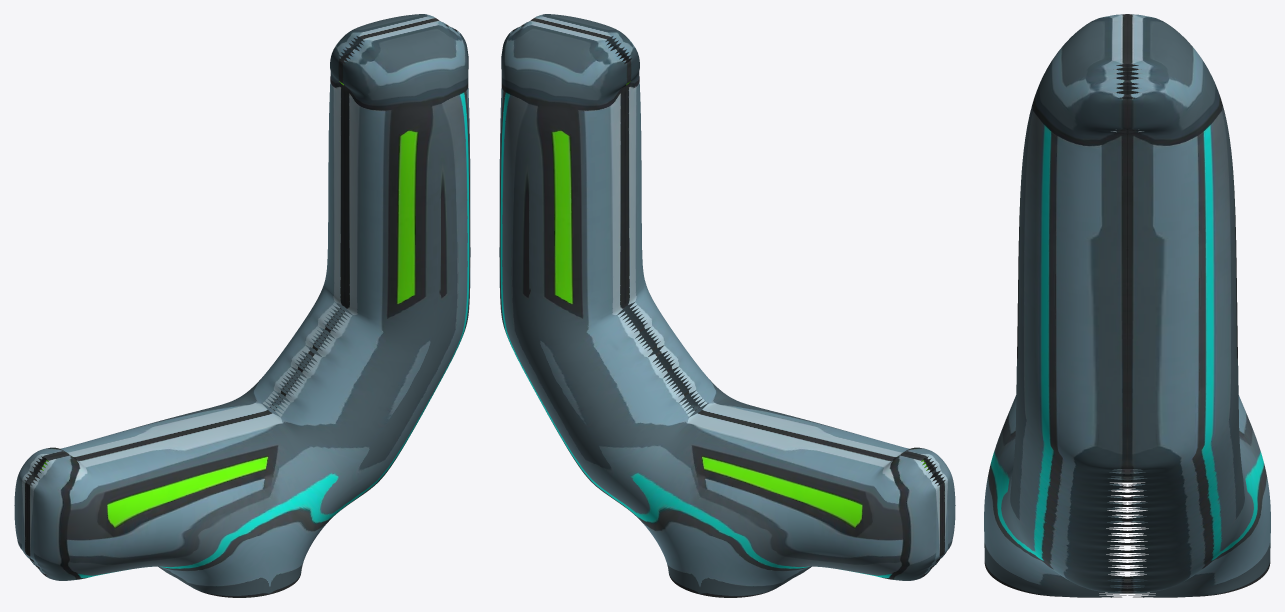
File: cliff_conduit.glb
3 views of the same model, side by side, from view 1: azimuth 30°, elevation 25°; view 2: azimuth 150°, elevation 25°; view 3: azimuth 270°, elevation 25° (orthographic). The views are drawn at different scales.
Parts seen in each view (by area): view 1: cliff_conduit; view 2: cliff_conduit; view 3: cliff_conduit.
Part boxes in pixels (x1,y1,x2,y2): cliff_conduit: (14,14,470,597); cliff_conduit: (499,14,955,597); cliff_conduit: (984,14,1270,597).
Bounding box in the file's own units: 0.9882 × 1.06 × 0.4279.
Materials: 1 (1 with a texture image).
